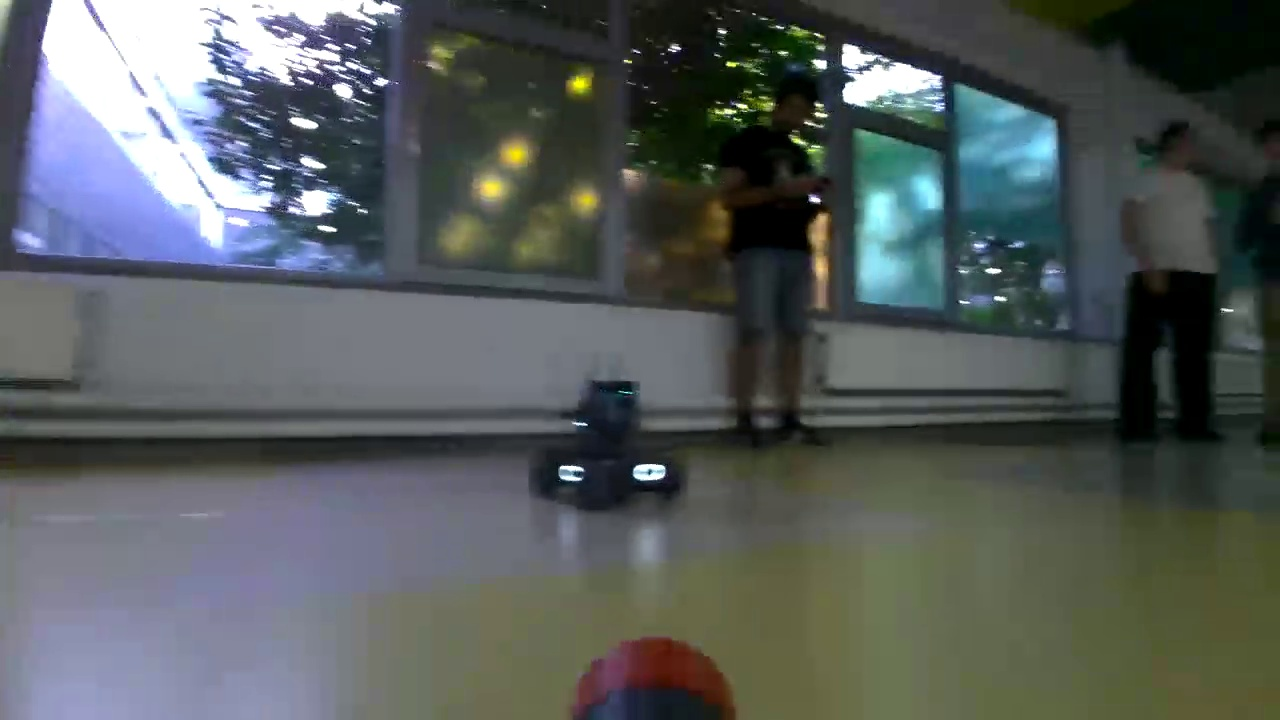robot: (528, 376, 692, 508)
